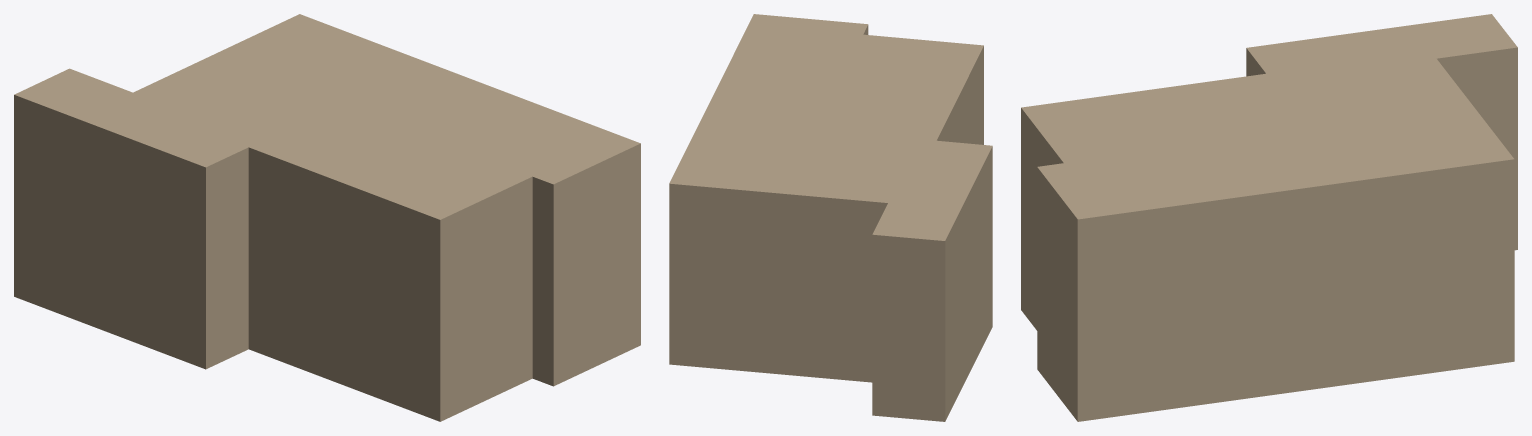
The model's file is bld_106456538.dae.
3 views of the same model, side by side, from view 1: azimuth 30°, elevation 25°; view 2: azimuth 150°, elevation 25°; view 3: azimuth 270°, elevation 25° (orthographic). The views are drawn at different scales.
Visible parts, largest first — view 1: bld_106456538; view 2: bld_106456538; view 3: bld_106456538.
Part boxes in pixels (x1,y1,x2,y2): bld_106456538: (14, 14, 640, 421); bld_106456538: (669, 14, 992, 421); bld_106456538: (1021, 14, 1517, 421).
Bounding box in the file's own units: 17.41 × 17.79 × 8.
